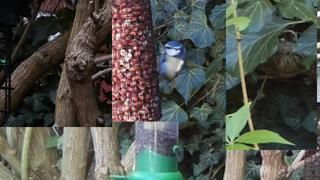blue tit: (151, 40, 186, 90)
